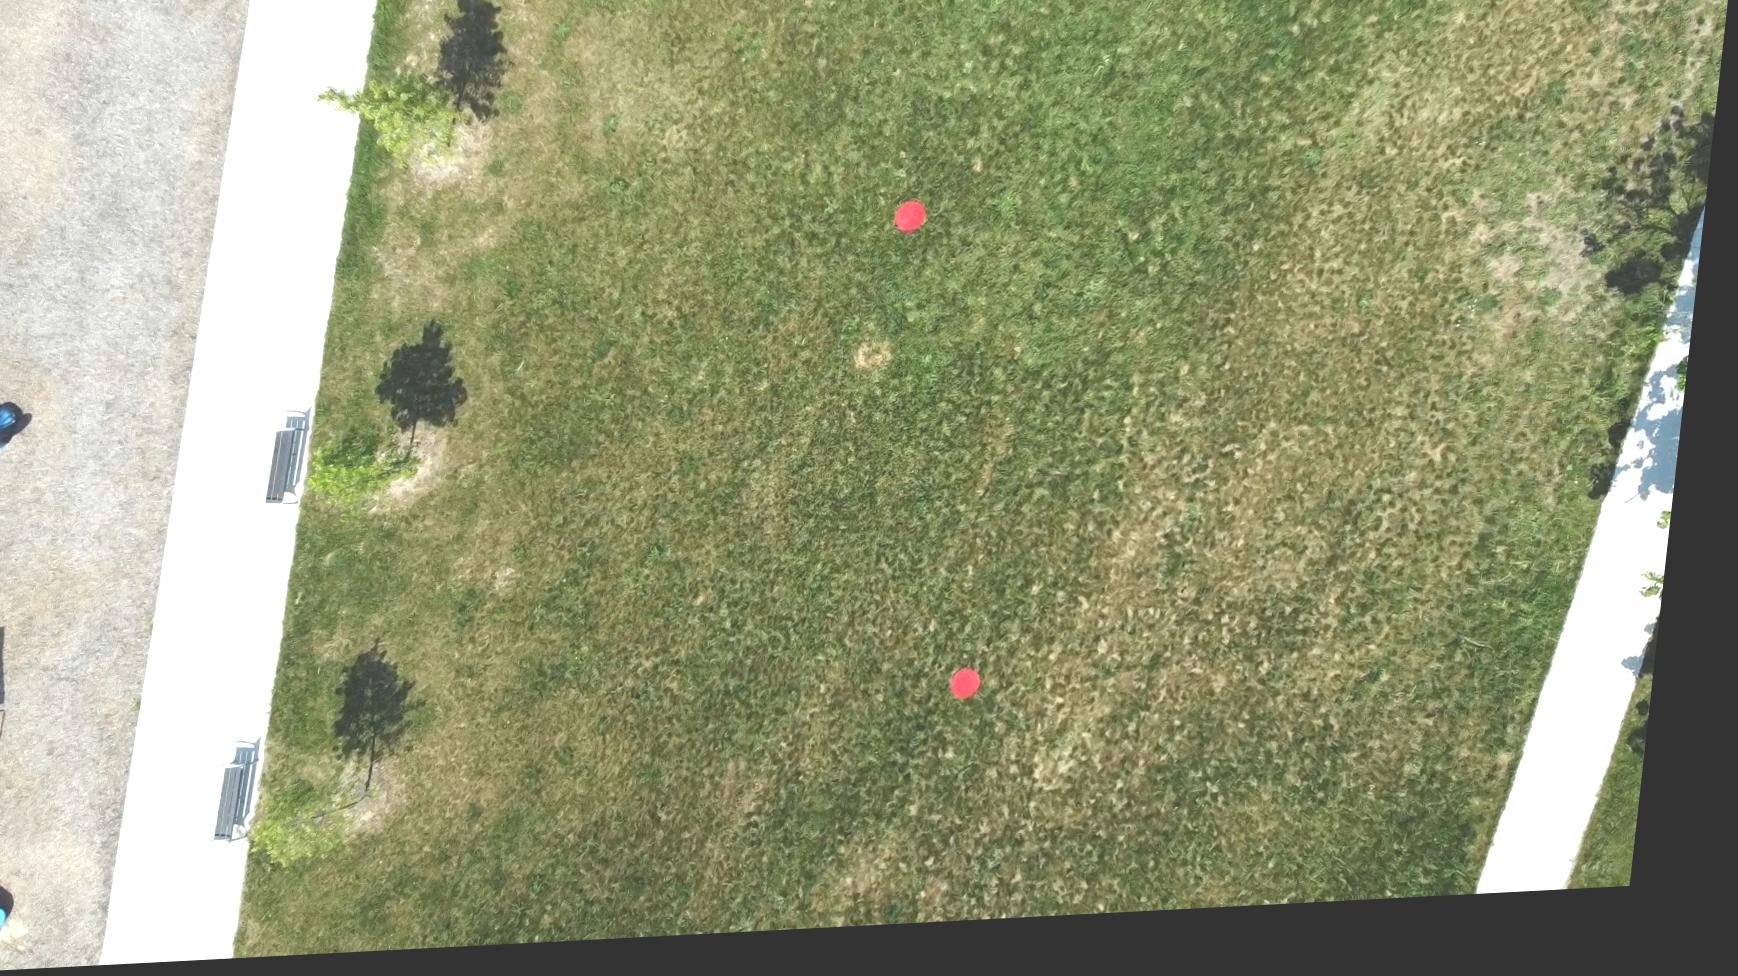Red: (897, 208, 936, 246), (964, 678, 1003, 713)
